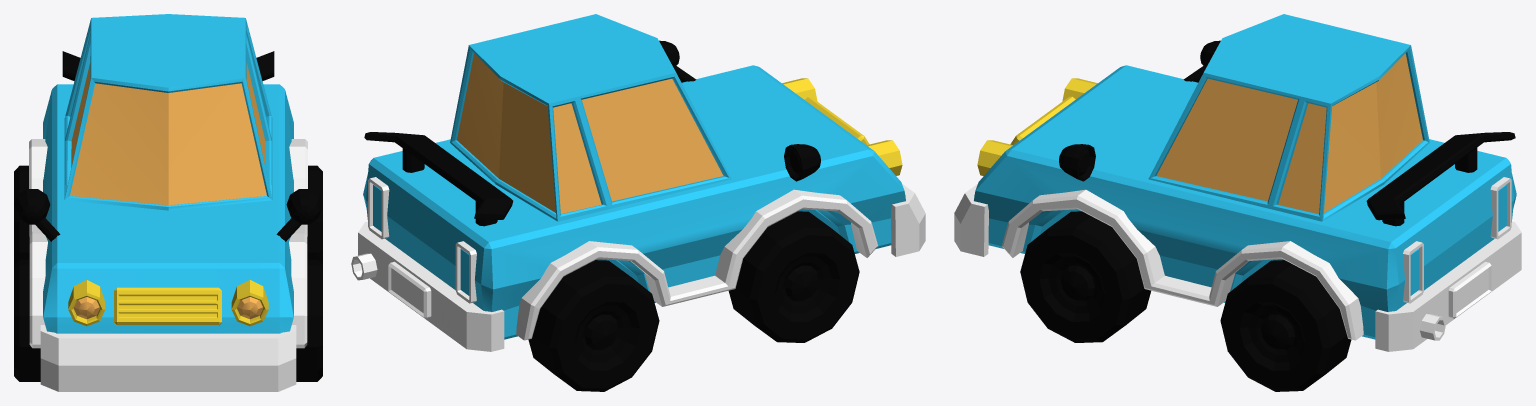
Rendered from Toy36.fbx.
3 views of the same model, side by side, from view 1: azimuth 30°, elevation 25°; view 2: azimuth 150°, elevation 25°; view 3: azimuth 270°, elevation 25° (orthographic). The views are drawn at different scales.
Parts seen in each view (by area): view 1: Toy36; view 2: Toy36; view 3: Toy36.
Part boxes in pixels (x1,y1,x2,y2): Toy36: (14, 14, 322, 391); Toy36: (351, 14, 925, 391); Toy36: (954, 14, 1521, 391).
Size of the model in its own units: 0.2055 by 0.1274 by 0.2468.
